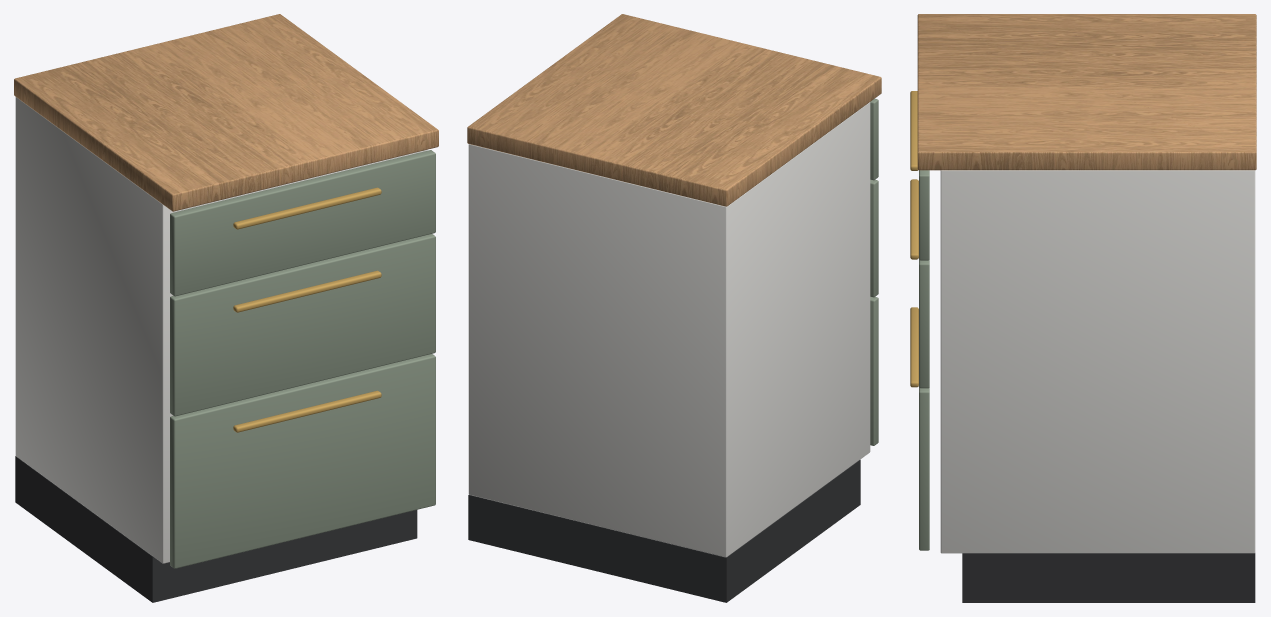
Rendered from base-sage.glb.
3 views of the same model, side by side, from view 1: azimuth 30°, elevation 25°; view 2: azimuth 150°, elevation 25°; view 3: azimuth 270°, elevation 25° (orthographic). The views are drawn at different scales.
Parts seen in each view (by area): view 1: carcass, worktop, front, front.001, front.002, plinth, pull.001, pull, pull.002; view 2: carcass, worktop, plinth, front, front.001, front.002; view 3: carcass, worktop, plinth, front, front.001, front.002, pull, pull.001, pull.002.
Part boxes in pixels (left/top/right/bottom): carcass: left=15, top=97, right=427, bottom=563; worktop: left=14, top=14, right=438, bottom=211; front: left=170, top=354, right=435, bottom=568; front.001: left=170, top=234, right=435, bottom=416; front.002: left=170, top=150, right=435, bottom=296; plinth: left=15, top=456, right=417, bottom=602; pull.001: left=233, top=270, right=381, bottom=312; pull: left=233, top=390, right=381, bottom=432; pull.002: left=233, top=187, right=381, bottom=229; carcass: left=468, top=102, right=870, bottom=557; worktop: left=467, top=14, right=881, bottom=206; plinth: left=468, top=459, right=860, bottom=602; front: left=870, top=296, right=878, bottom=445; front.001: left=870, top=179, right=878, bottom=297; front.002: left=870, top=98, right=878, bottom=180; carcass: left=940, top=170, right=1255, bottom=553; worktop: left=917, top=14, right=1256, bottom=170; plinth: left=962, top=553, right=1255, bottom=602; front: left=919, top=387, right=929, bottom=550; front.001: left=919, top=260, right=929, bottom=388; front.002: left=919, top=170, right=929, bottom=260; pull: left=910, top=307, right=918, bottom=387; pull.001: left=910, top=179, right=918, bottom=259; pull.002: left=910, top=91, right=918, bottom=170.
Size of the model in its own units: 0.605 by 0.918 by 0.6385.
5 materials, 1 textured.
